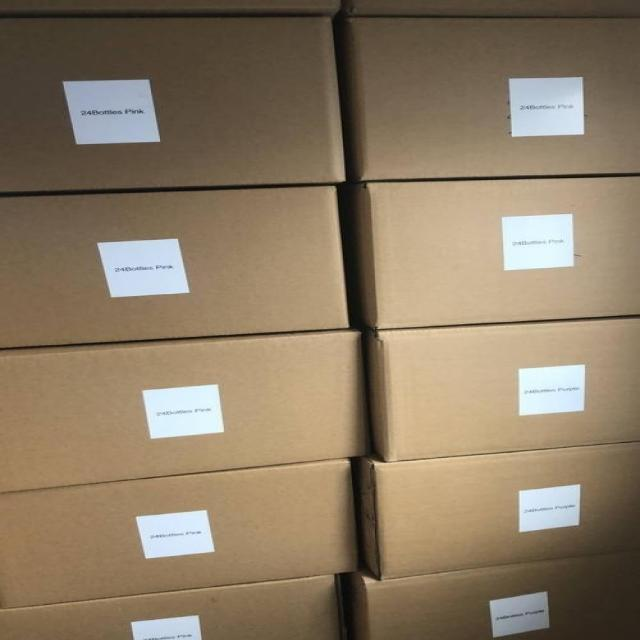box: (0, 324, 375, 491), (3, 15, 345, 194), (0, 183, 346, 348), (4, 460, 361, 608), (333, 17, 638, 181), (344, 176, 639, 334), (362, 321, 639, 461), (356, 443, 639, 579), (343, 553, 639, 639), (0, 574, 345, 637), (4, 1, 345, 17), (344, 1, 639, 17)
